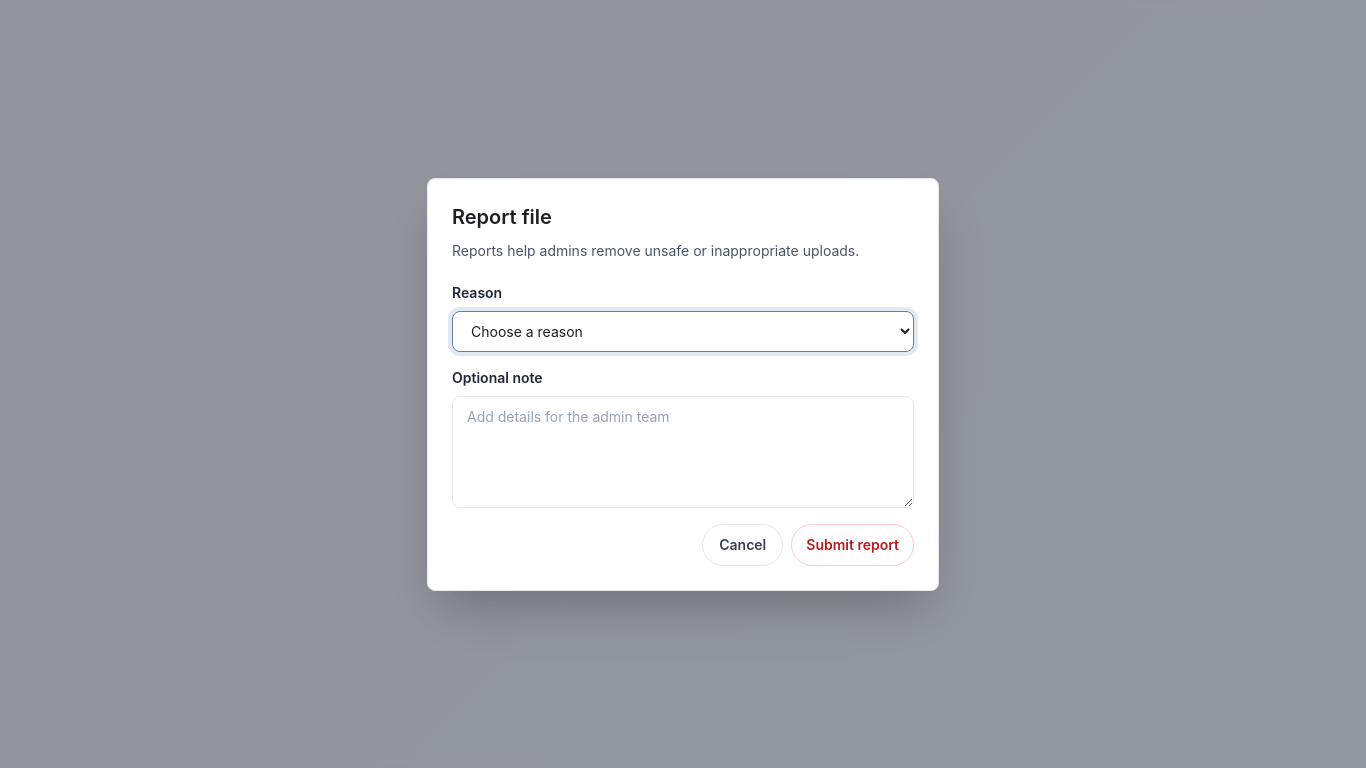
Test: FileReportDialog › requires a report type before submission
This screenshot has width=1366, height=768.
What coordinates should you click on to do the following:
click the button "Submit report"
I would click on:
 (853, 544)
Its box is [791,524,914,566].
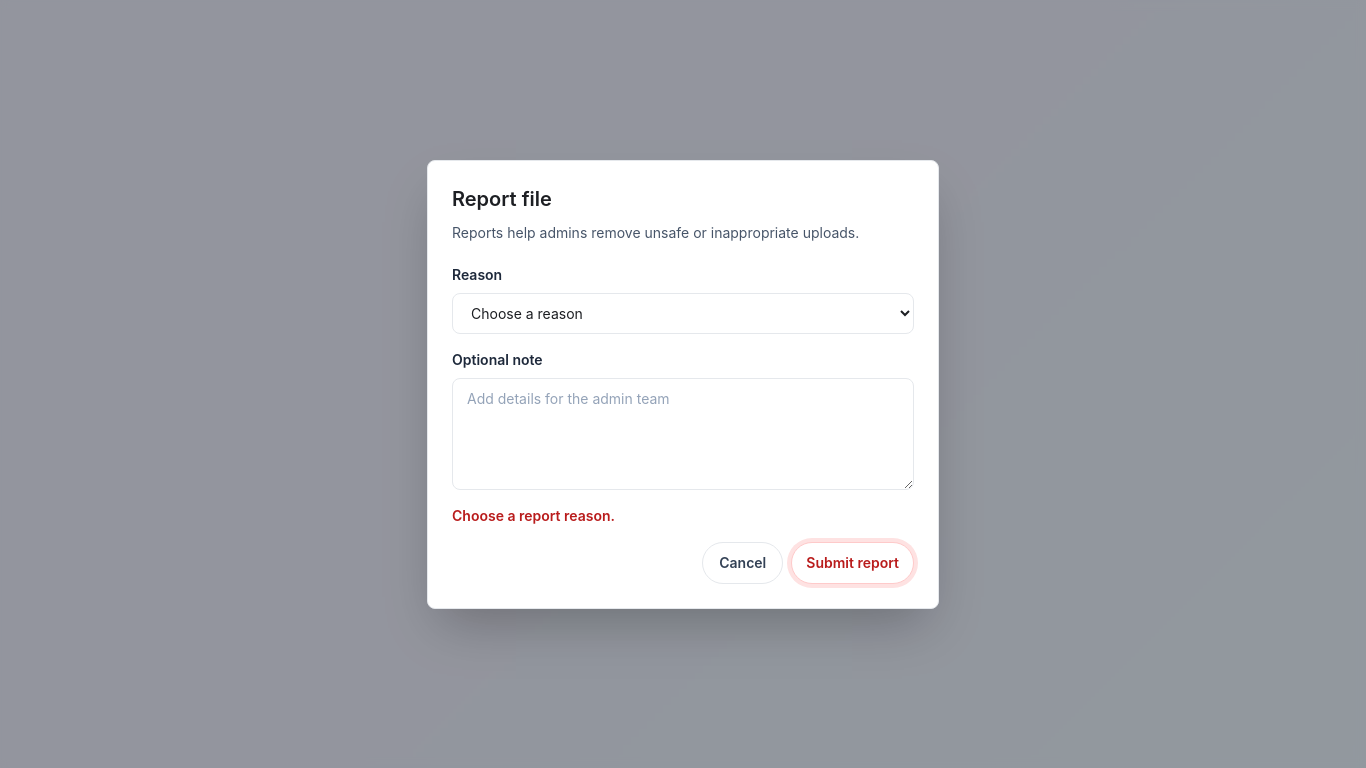
Check: the message reads "Choose a report reason.", box [452,506,615,524]
